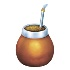guampa: (13, 4, 57, 67)
